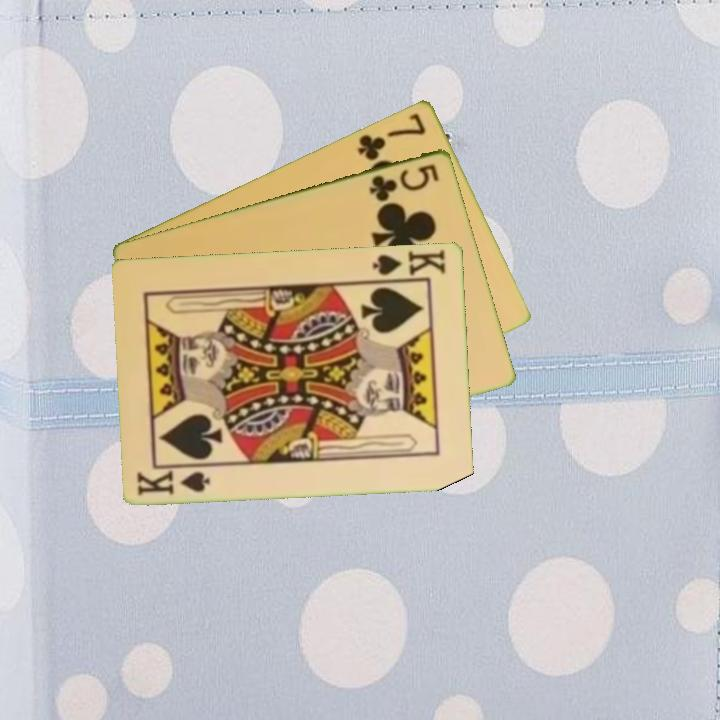5c: (365, 160, 442, 204)
7c: (354, 108, 429, 164)
Ks: (369, 245, 449, 278), (134, 466, 214, 498)
